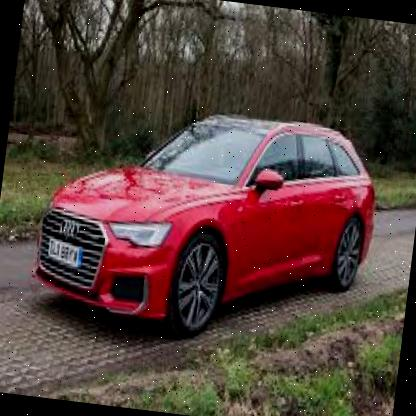car: (20, 87, 396, 362)
